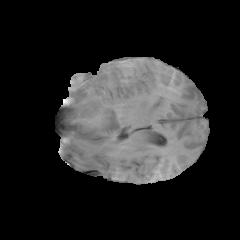glioma: (64, 64, 122, 135)
